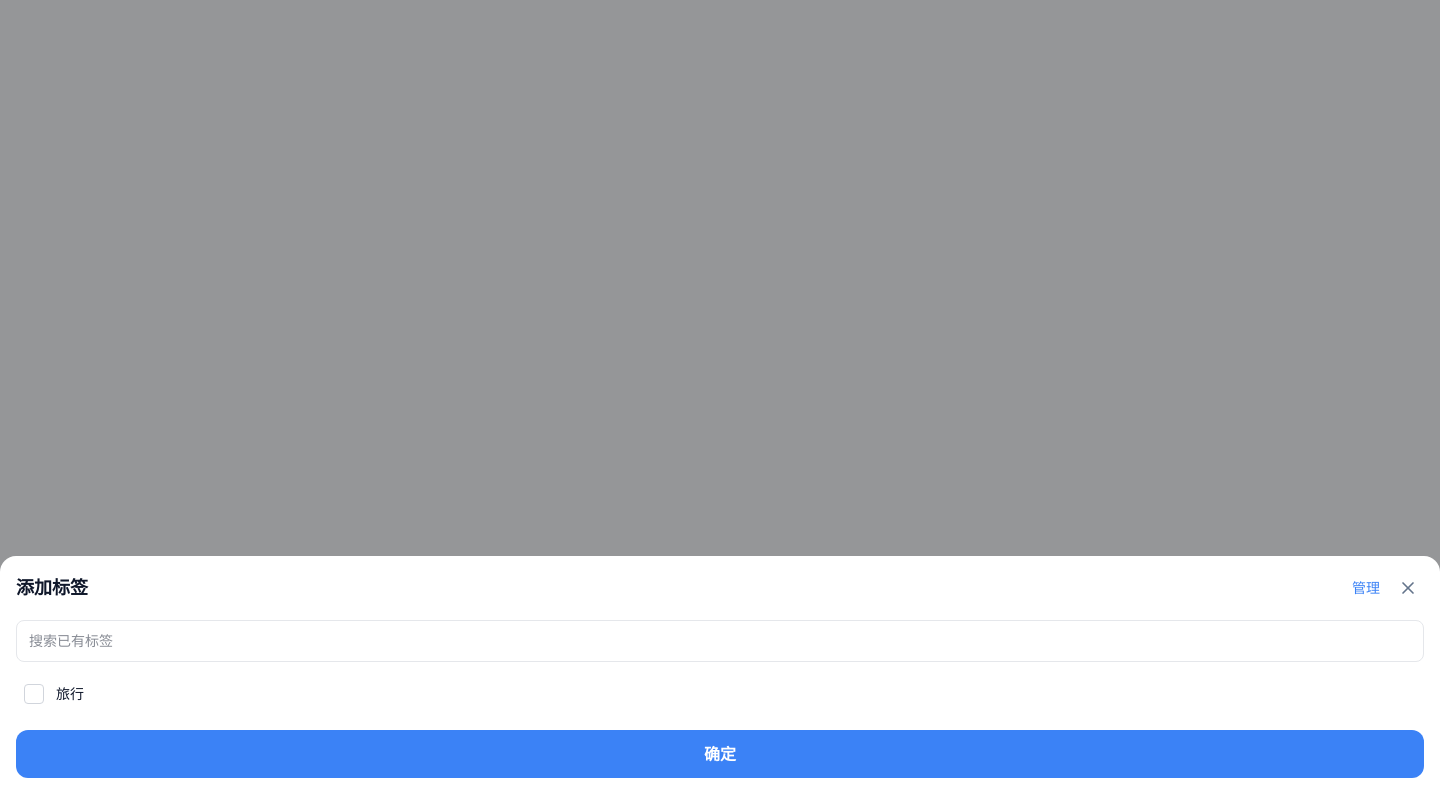
Test: TagSheet 管理模式 › 切到管理模式后展示标签使用次数，且隐藏确定按钮
This screenshot has width=1440, height=810.
Click the button "管理" at (1366, 588), box [1344,574,1388,602]
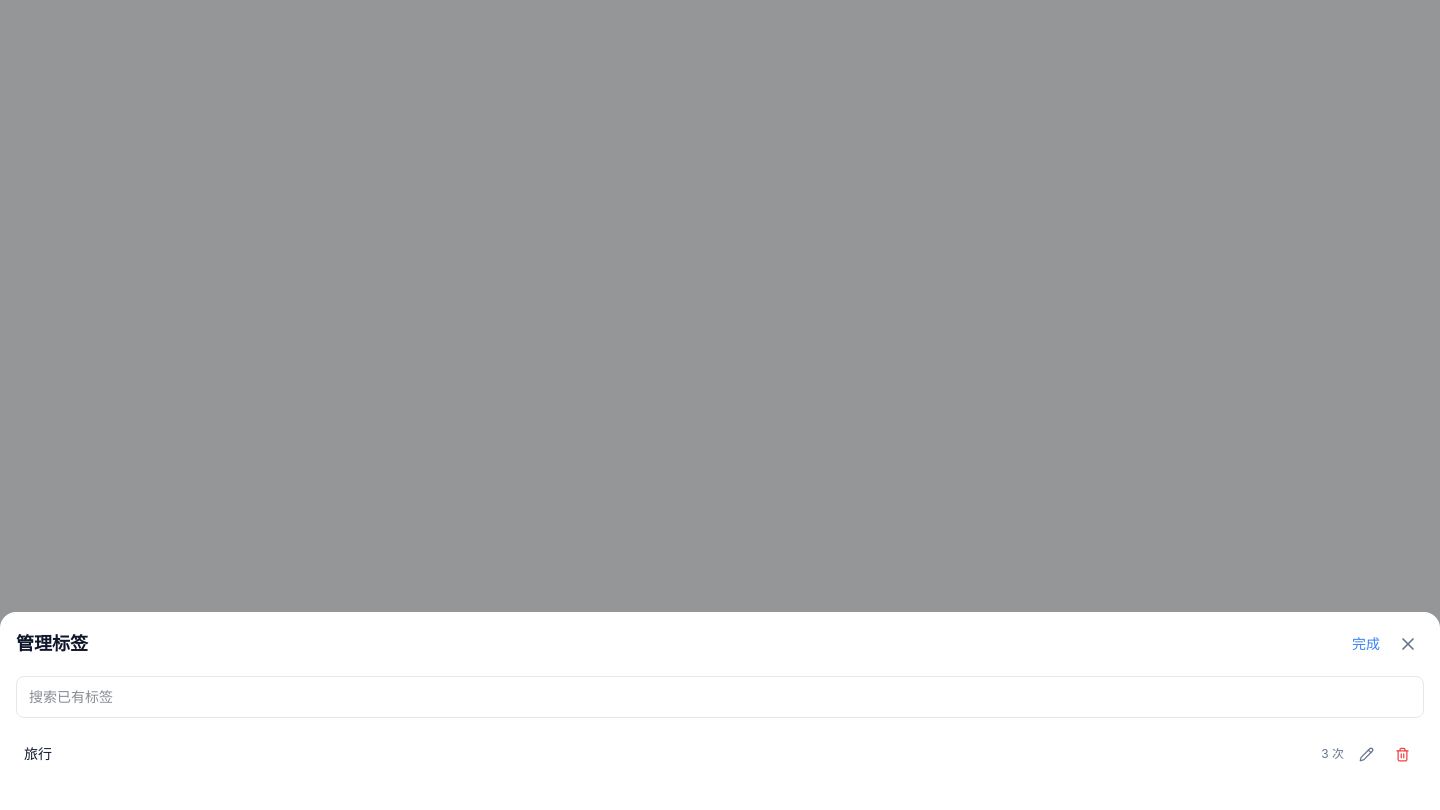
Now the text "管理标签" is shown, box [16,630,88,658]
Now the text "3 次" is shown, box [1321,746,1344,762]
